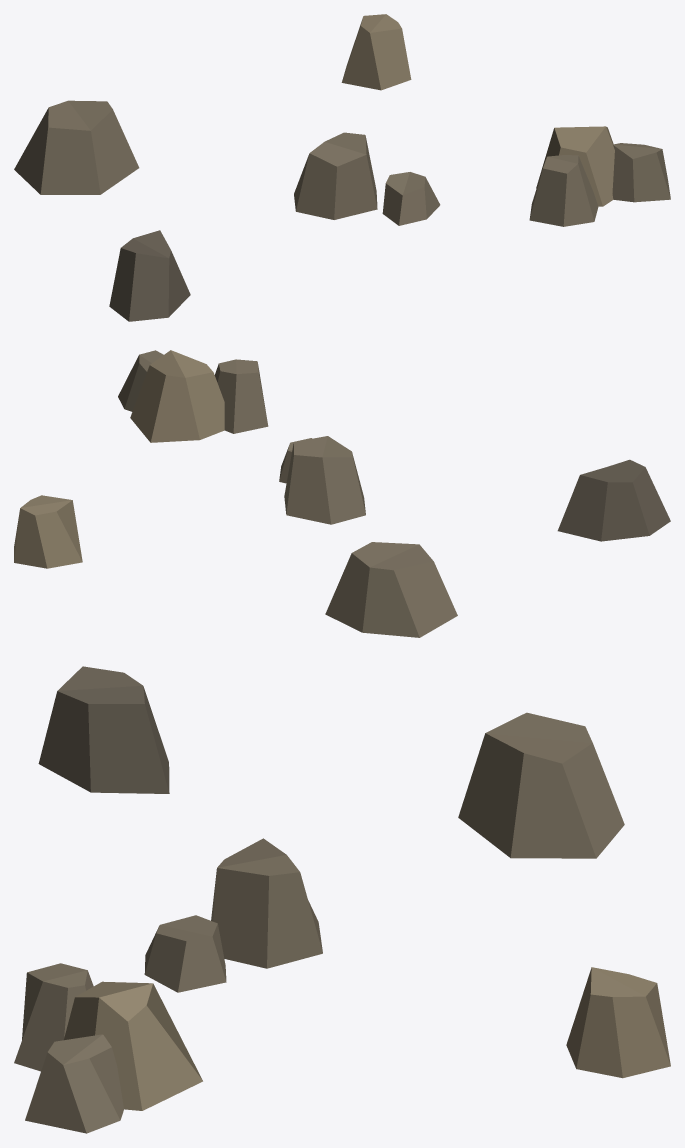
The model's file is SmallRock_2.fbx.
3 views of the same model, one above another, from view 1: azimuth 30°, elevation 25°; view 2: azimuth 150°, elevation 25°; view 3: azimuth 270°, elevation 25° (orthographic). The views are drawn at different scales.
Parts seen in each view (by area): view 1: SmallRock_2; view 2: SmallRock_2; view 3: SmallRock_2.
Part boxes in pixels (bbox=[...]): SmallRock_2: bbox=[14, 14, 670, 321]; SmallRock_2: bbox=[14, 350, 670, 637]; SmallRock_2: bbox=[14, 666, 670, 1133].
Bounding box in the file's own units: 90.77 × 10.17 × 63.97.
